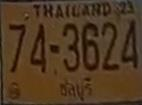2: (101, 21, 120, 71)
3: (62, 22, 79, 72)
4: (120, 19, 137, 68), (29, 23, 45, 72)
6: (81, 22, 98, 70)
7: (8, 23, 25, 70)
CBI: (54, 76, 95, 102)
